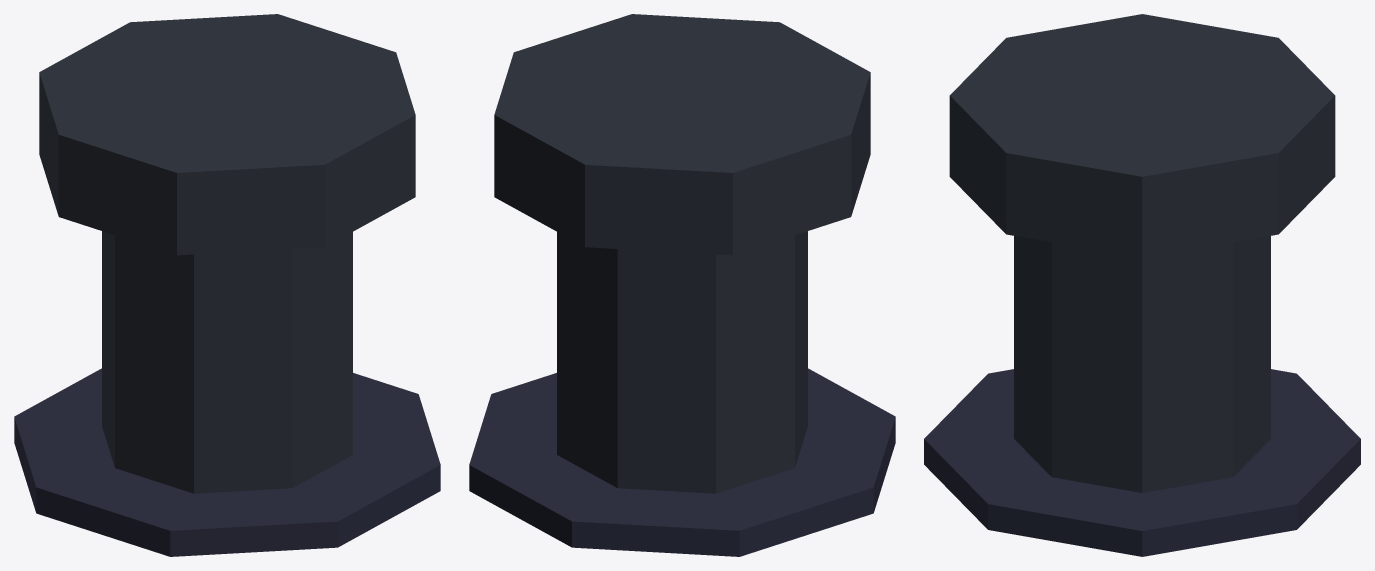
File: bollard.glb
The picture shows the model from 3 angles, left to right: view 1: azimuth 30°, elevation 25°; view 2: azimuth 150°, elevation 25°; view 3: azimuth 270°, elevation 25°; orthographic projection.
Parts seen in each view (by area): view 1: bollard; view 2: bollard; view 3: bollard.
Part boxes in pixels (box(x1,y1,x2,y2)): bollard: box(14, 14, 440, 556); bollard: box(469, 14, 895, 556); bollard: box(924, 14, 1360, 556).
Size of the model in its own units: 0.918 by 0.8565 by 0.918.
